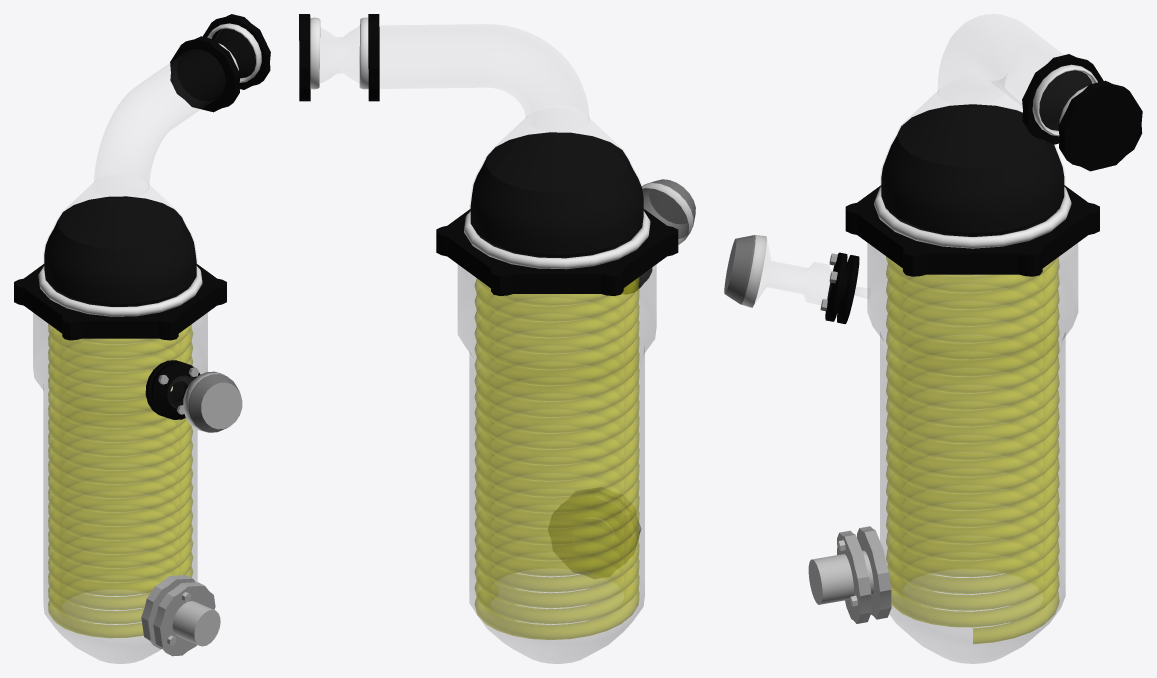
The model's file is New reboiler 1.fbx.
The picture shows the model from 3 angles, left to right: view 1: azimuth 30°, elevation 25°; view 2: azimuth 150°, elevation 25°; view 3: azimuth 270°, elevation 25°; orthographic projection. The views are drawn at different scales.
Visible parts, largest first — view 1: pCylinder1, pHelix1, pCylinder4, pGear1, pPrism4, pGear2, pGear3, pGear5, pTorus1, pCylinder8, pGear4, pTorus3; view 2: pCylinder1, pHelix1, pCylinder4, pGear1, pGear4, pTorus1, pPrism4, pCylinder8, pGear2, pGear3, pTorus3, pTorus2 (+1 smaller); view 3: pCylinder1, pHelix1, pCylinder4, pGear1, pGear3, pPrism4, pGear2, pTorus1, pCylinder8, pGear4, pGear5, pTorus2.
Boxes of the visible parts, x1,y1,x2,y2 form: pCylinder1: (33, 313, 207, 663); pHelix1: (48, 324, 193, 638); pCylinder4: (44, 196, 196, 306); pGear1: (14, 264, 226, 340); pPrism4: (145, 360, 242, 432); pGear2: (170, 36, 240, 112); pGear3: (202, 14, 270, 89); pGear5: (153, 582, 215, 656); pTorus1: (38, 266, 202, 316); pCylinder8: (172, 601, 220, 646); pGear4: (141, 575, 195, 648); pTorus3: (207, 23, 261, 82); pCylinder1: (458, 265, 656, 663); pHelix1: (474, 277, 639, 639); pCylinder4: (470, 132, 643, 257); pGear1: (436, 209, 678, 296); pGear4: (548, 493, 635, 578); pTorus1: (464, 211, 650, 269); pPrism4: (622, 179, 695, 293); pCylinder8: (572, 517, 614, 558); pGear2: (368, 14, 379, 101); pGear3: (299, 14, 310, 101); pTorus3: (310, 17, 320, 89); pTorus2: (359, 17, 368, 89); pCylinder1: (867, 243, 1077, 663); pHelix1: (886, 256, 1059, 644); pCylinder4: (881, 104, 1064, 235); pGear1: (845, 185, 1099, 276); pGear3: (1058, 80, 1142, 171); pPrism4: (724, 235, 859, 323); pGear2: (1022, 54, 1103, 144); pTorus1: (874, 187, 1071, 248); pCylinder8: (808, 550, 873, 604); pGear4: (857, 526, 891, 619); pGear5: (837, 530, 871, 623); pTorus2: (1032, 64, 1097, 136).
Bounding box in the file's own units: 0.0321 × 0.0635 × 0.036.
